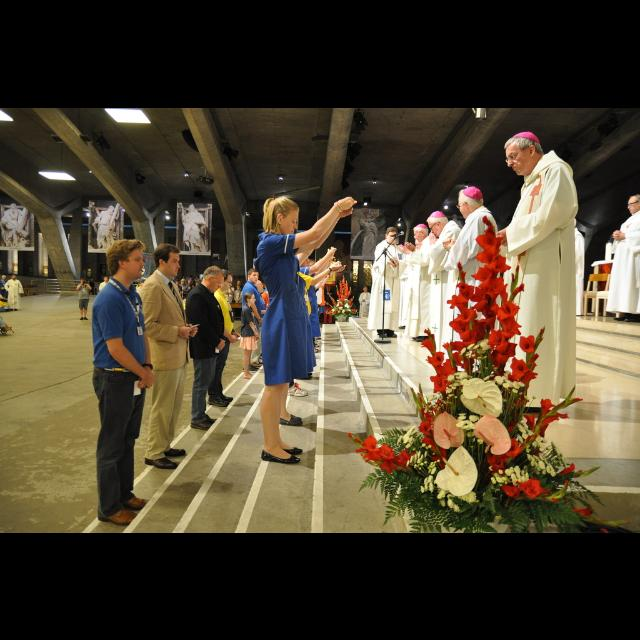Flower: (348, 214, 590, 516), (440, 455, 490, 505), (326, 277, 356, 317)
